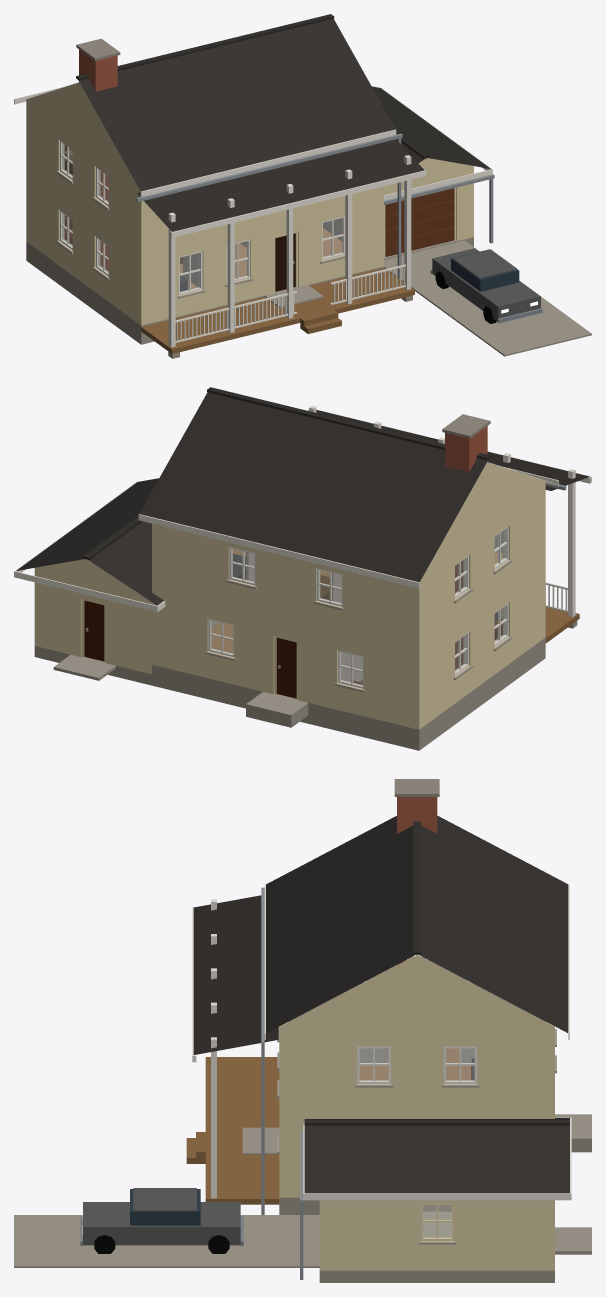
The model's file is colonial_c.glb.
The picture shows the model from 3 angles, top to bottom: view 1: azimuth 30°, elevation 25°; view 2: azimuth 150°, elevation 25°; view 3: azimuth 270°, elevation 25°; orthographic projection. The views are drawn at different scales.
Parts seen in each view (by area): view 1: LOD0, LEAF0; view 2: LOD0, LEAF2, LEAF1, FURN; view 3: LOD0.
Boxes of the visible parts, <box> form: LOD0: <box>14,14,591,358</box>; LEAF0: <box>275,233,295,291</box>; LOD0: <box>14,387,591,750</box>; LEAF2: <box>84,600,104,661</box>; LEAF1: <box>276,638,296,698</box>; FURN: <box>233,553,502,684</box>; LOD0: <box>14,779,591,1282</box>.
Size of what is drawn, in the model's own units: 15.37 by 9.86 by 17.2.
